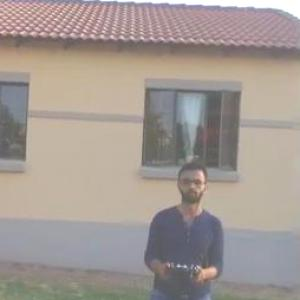follow: (138, 157, 230, 299)
